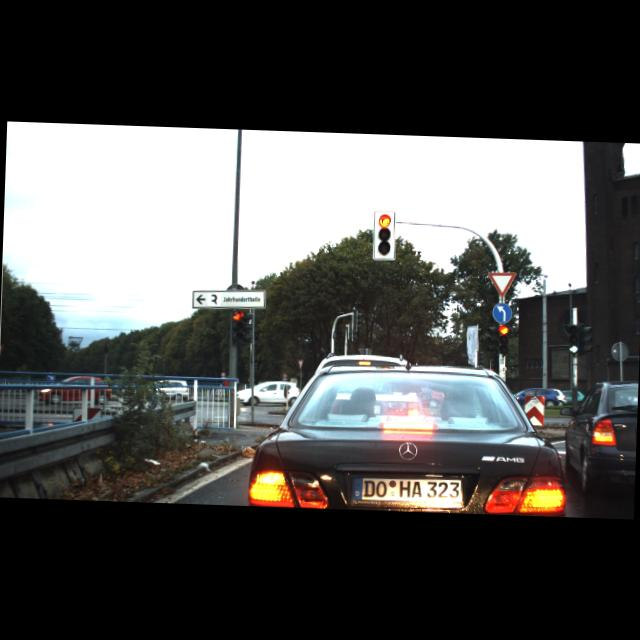mandatory: (491, 302, 512, 324)
other: (486, 271, 516, 298)
